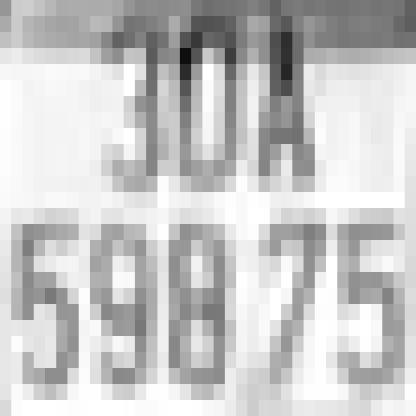5: (11, 208, 79, 384), (326, 208, 394, 368)
7: (247, 208, 315, 368)
8: (169, 208, 225, 368)
9: (90, 208, 157, 384)
A: (236, 16, 304, 192)
